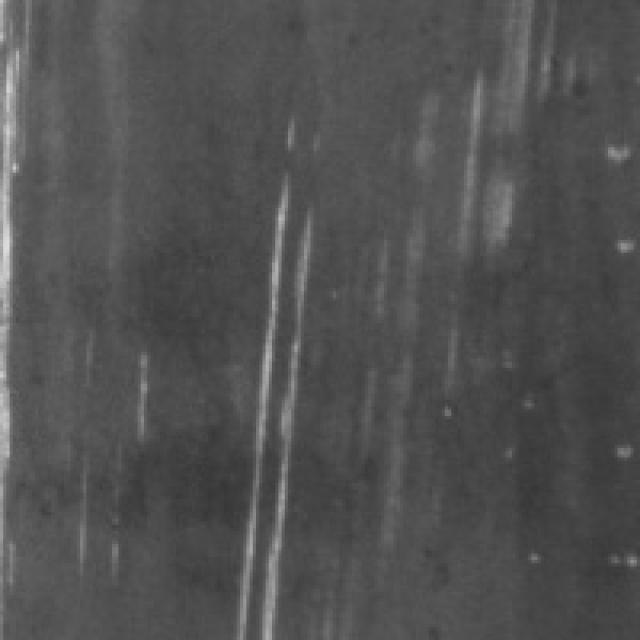scratches: (234, 102, 316, 637)
